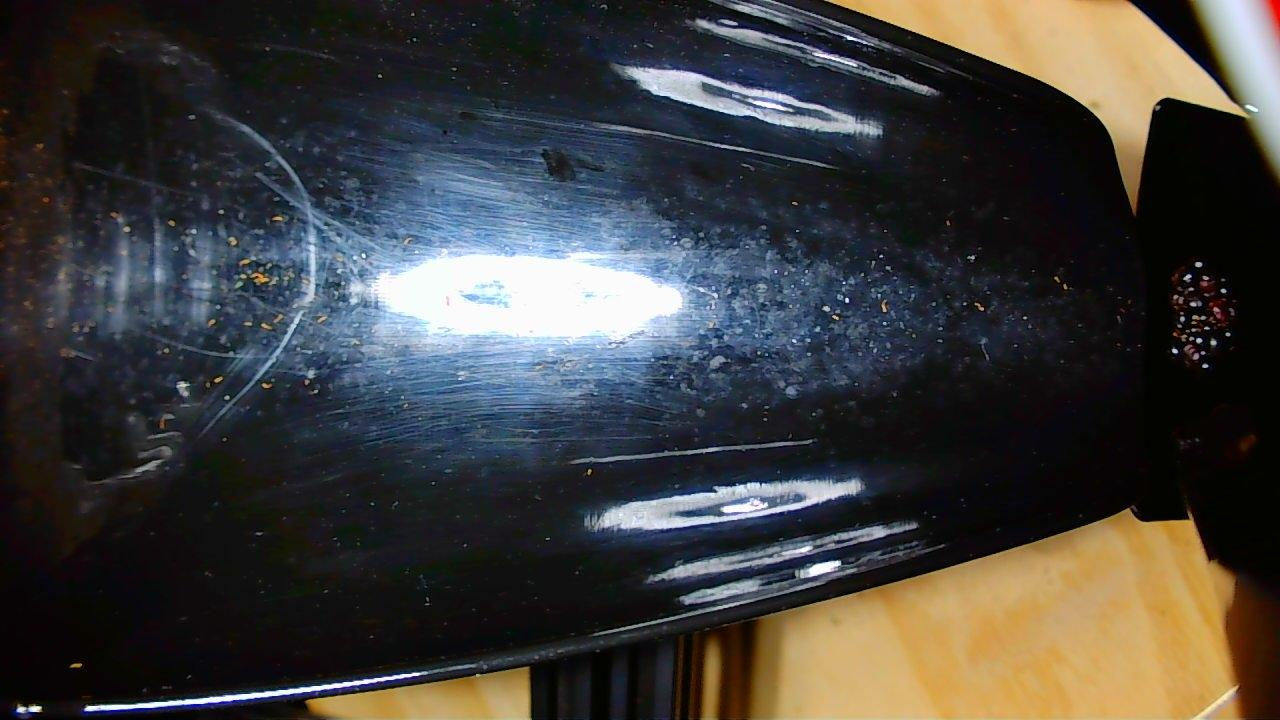berry: (1168, 256, 1236, 372)
